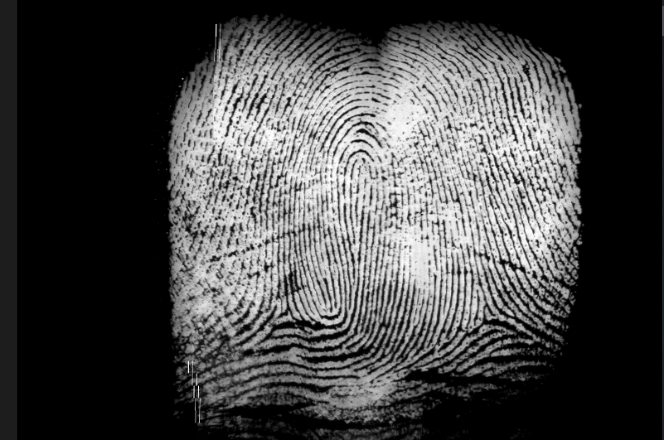nucelo: (343, 147, 380, 208)
verticilo: (469, 300, 508, 331), (269, 303, 306, 330)
